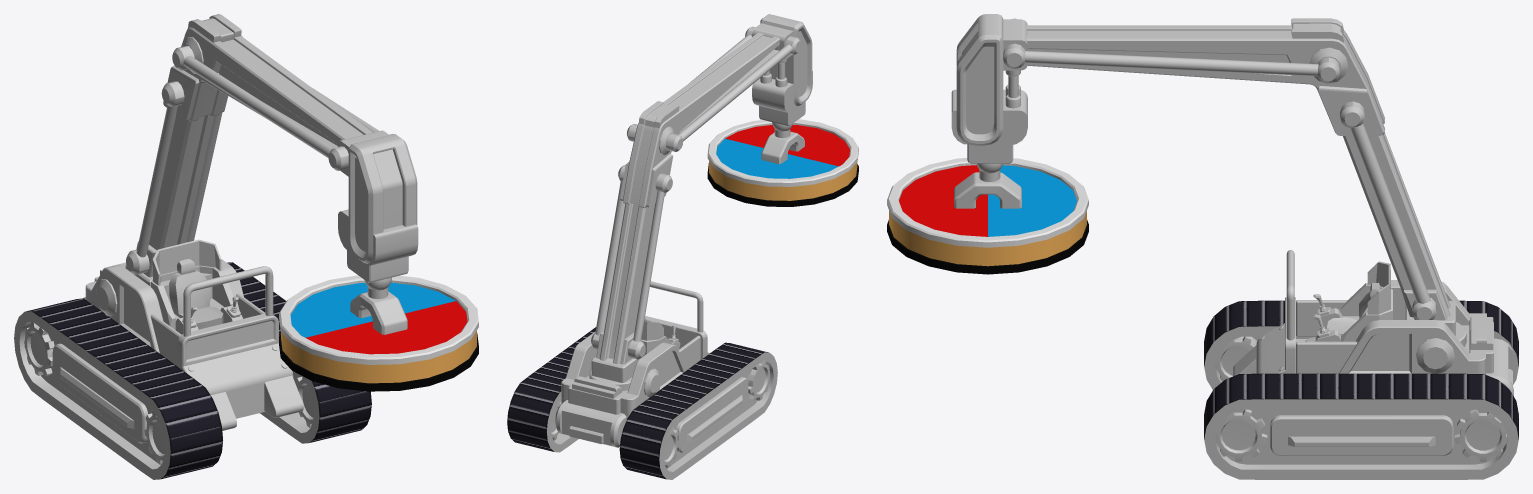
Rendered from veh_4.fbx.
3 renders of one model, left to right at view 1: azimuth 30°, elevation 25°; view 2: azimuth 150°, elevation 25°; view 3: azimuth 270°, elevation 25°, orthographic. The views are drawn at different scales.
Parts seen in each view (by area): view 1: crane, veh_4_body, chain, magnet_lvl4, chain_b, polySurface20, polySurface19, polySurface17; view 2: crane, chain, magnet_lvl4, veh_4_body, chain_b, polySurface19, polySurface20; view 3: crane, chain, magnet_lvl4, veh_4_body, chain_b, polySurface18, polySurface17, polySurface19.
Boxes of the visible parts, bbox=[...] form: crane: bbox=[125, 14, 418, 286]; veh_4_body: bbox=[82, 239, 303, 430]; chain: bbox=[14, 262, 371, 479]; magnet_lvl4: bbox=[279, 275, 478, 391]; chain_b: bbox=[41, 333, 302, 464]; polySurface20: bbox=[24, 322, 54, 376]; polySurface19: bbox=[144, 410, 165, 464]; polySurface17: bbox=[295, 376, 313, 428]; crane: bbox=[589, 14, 812, 390]; chain: bbox=[507, 327, 777, 479]; magnet_lvl4: bbox=[707, 119, 858, 206]; veh_4_body: bbox=[555, 281, 709, 447]; chain_b: bbox=[560, 369, 757, 468]; polySurface19: bbox=[747, 360, 770, 400]; polySurface20: bbox=[663, 427, 679, 468]; crane: bbox=[951, 14, 1466, 346]; chain: bbox=[1204, 300, 1518, 479]; magnet_lvl4: bbox=[887, 158, 1088, 274]; veh_4_body: bbox=[1233, 250, 1513, 396]; chain_b: bbox=[1217, 336, 1506, 464]; polySurface18: bbox=[1454, 409, 1507, 461]; polySurface17: bbox=[1215, 409, 1267, 461]; polySurface19: bbox=[1215, 336, 1256, 381].
Size of the model in its own units: 316 by 608 by 857.
